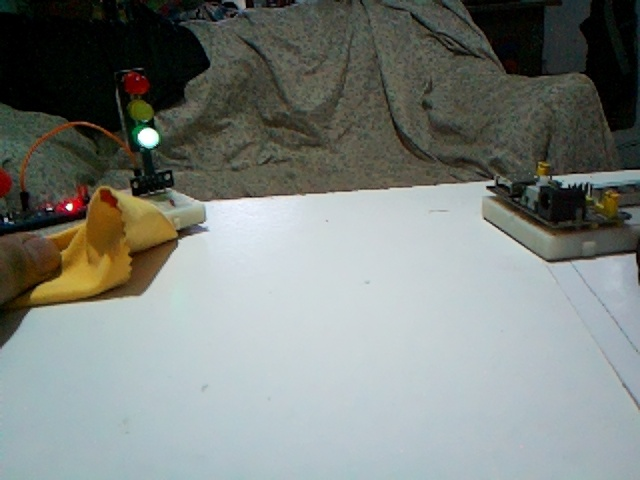traffic_light_green: (114, 67, 161, 151)
